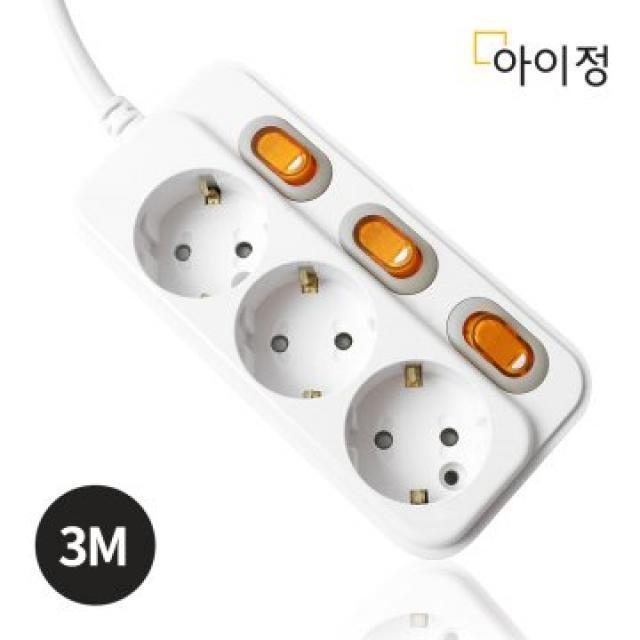typeb: (38, 51, 598, 573)
